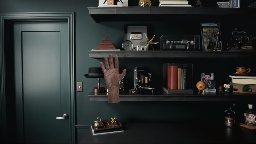Mano_aperta: (98, 51, 127, 87)
